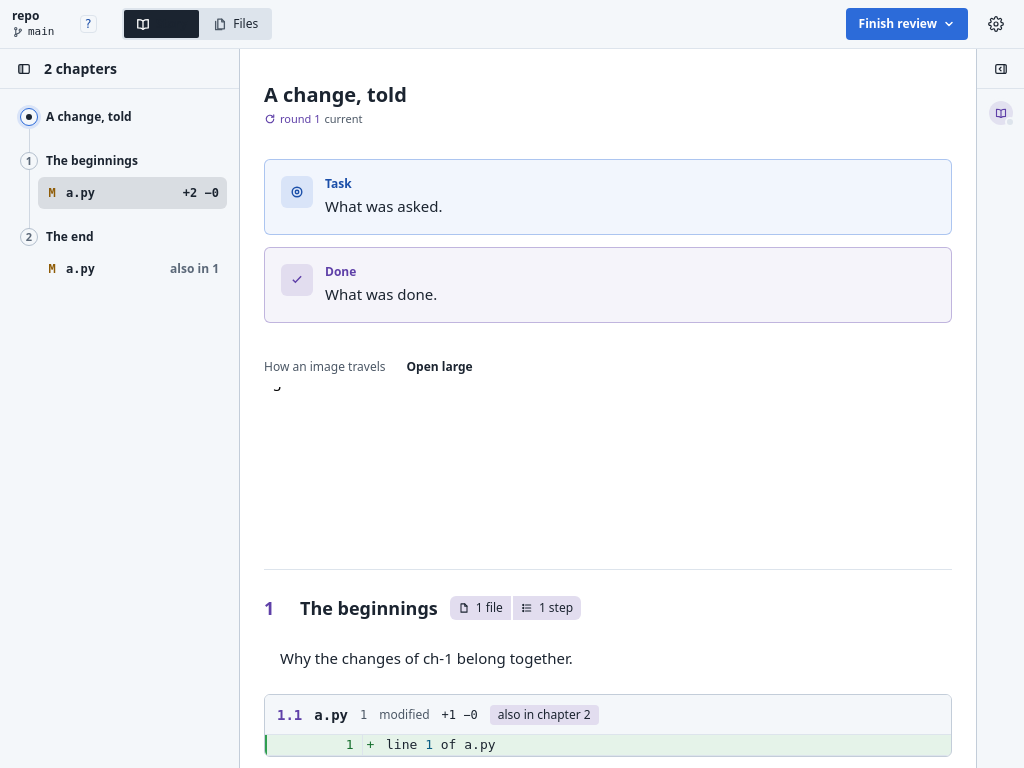
it: a story's diagram › draws it again, in a dialog of its own, once asked to open it large
Click the button with test id "diagram-open-large": (440,367) [398,355,482,379]
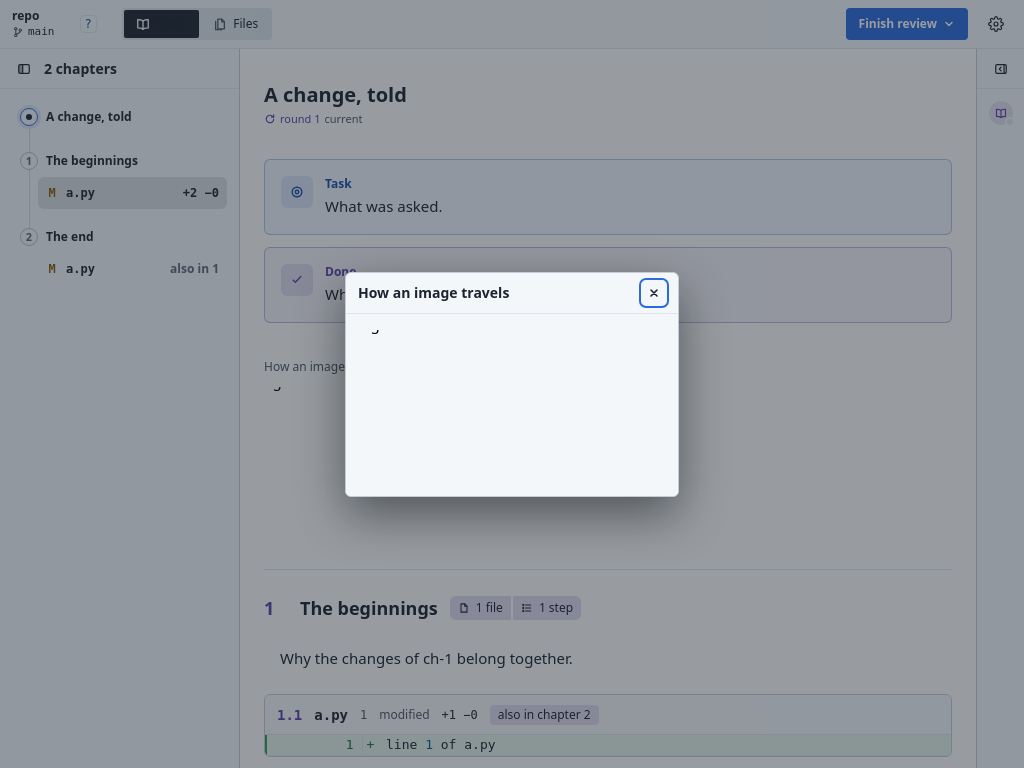
Expected: the element with test id "diagram-drawing" showing "store store-2 agent" is shown, [346,314,678,496]
